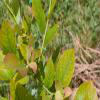Blueberry leaf: (55, 46, 77, 92), (2, 52, 31, 76), (0, 17, 18, 55), (31, 0, 46, 36), (43, 23, 61, 51), (43, 50, 55, 91), (9, 77, 26, 99)
